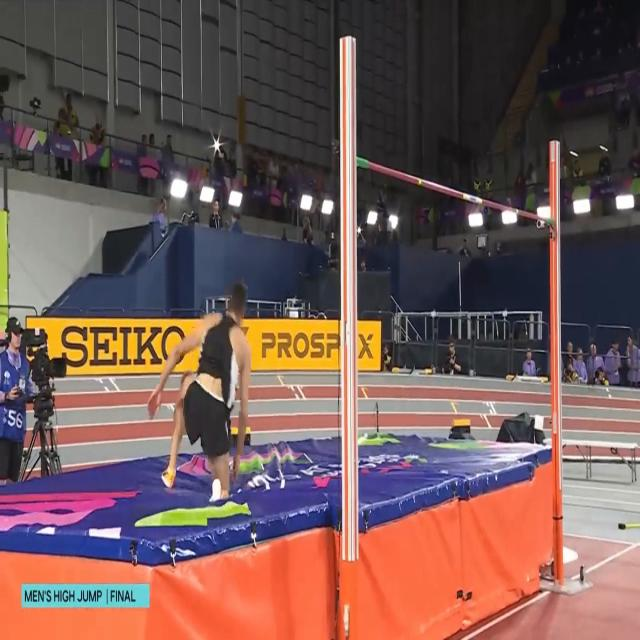land: (148, 286, 251, 500)
